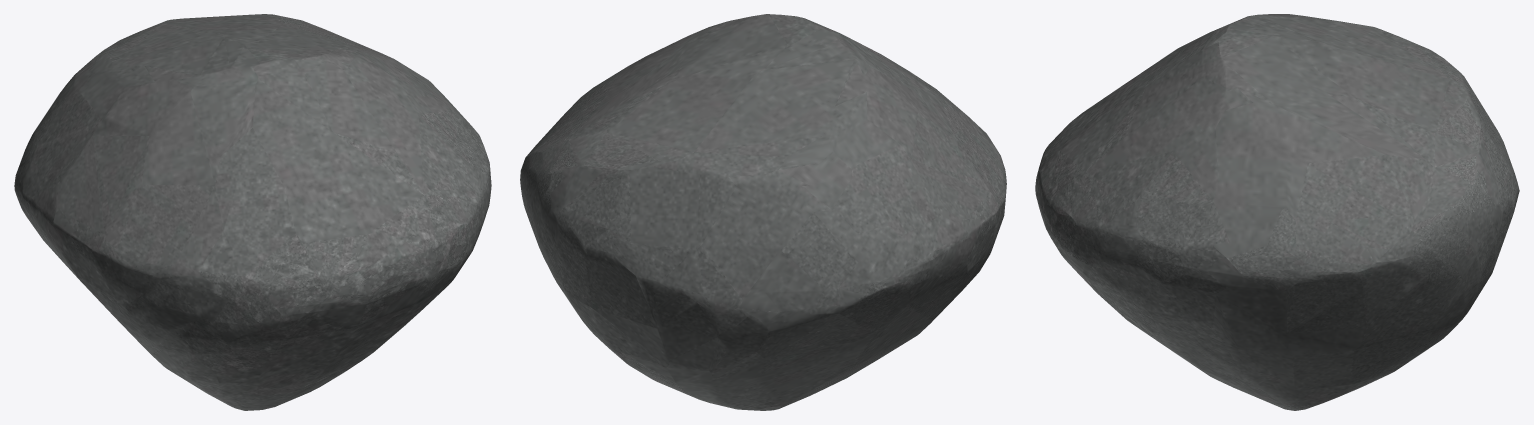
Rendered from phaethon-low.glb.
3 renders of one model, left to right at view 1: azimuth 30°, elevation 25°; view 2: azimuth 150°, elevation 25°; view 3: azimuth 270°, elevation 25°, orthographic. The views are drawn at different scales.
Size of the model in its own units: 1.91 by 1.63 by 2.
Materials: 1 (1 with a texture image).
